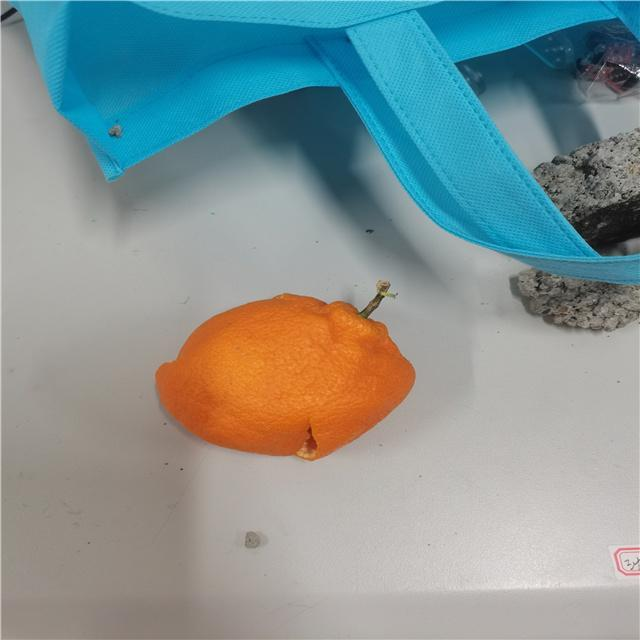orange-peel: (154, 286, 416, 461)
